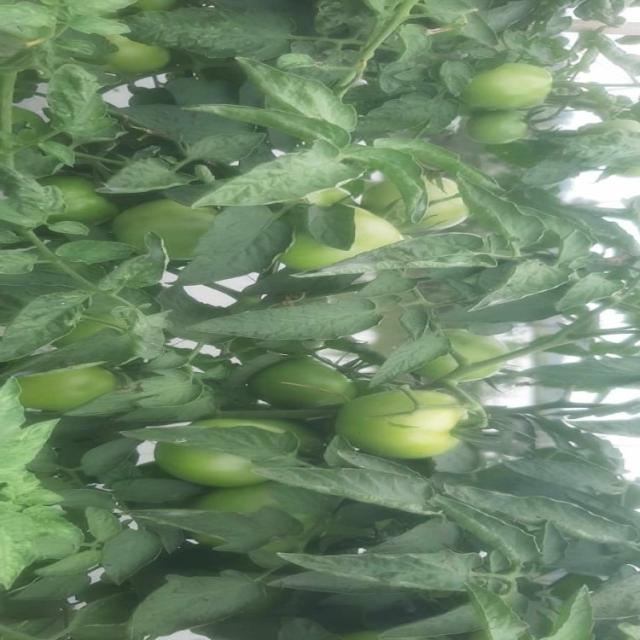tomato: (336, 383, 482, 463), (150, 440, 281, 496), (111, 190, 213, 261), (259, 352, 355, 413), (20, 360, 108, 418), (469, 58, 557, 106), (421, 167, 475, 243), (460, 108, 538, 157), (434, 326, 502, 380), (44, 174, 109, 222), (344, 201, 401, 254), (105, 31, 161, 76)
